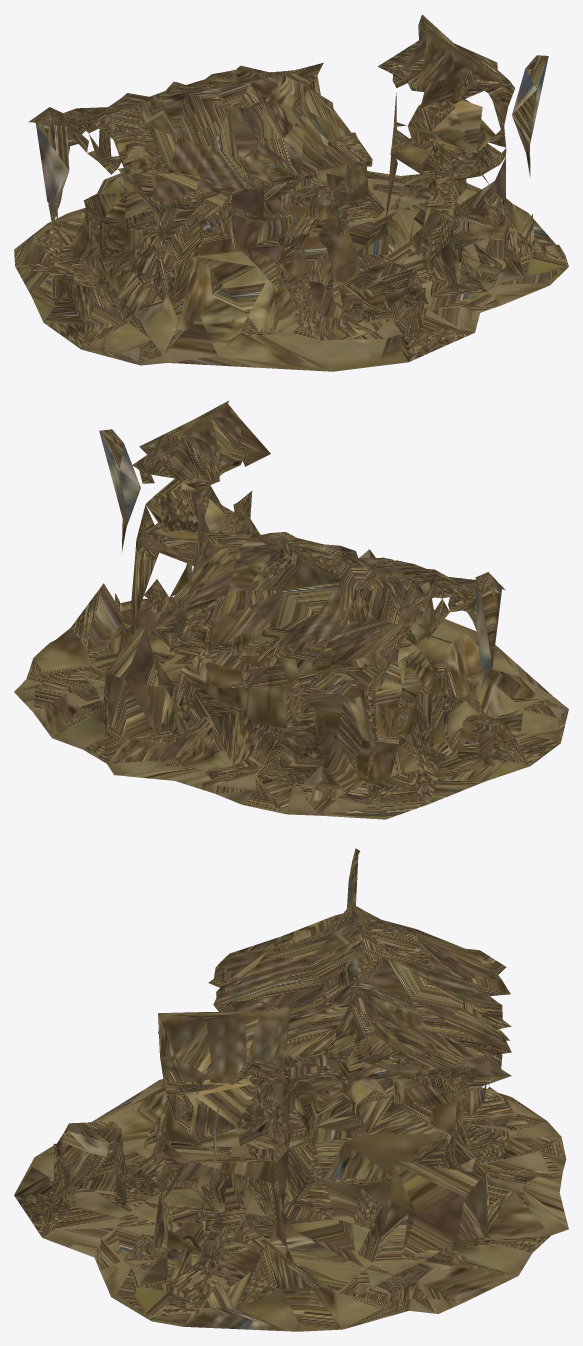
The model's file is bq_carpentry.lod2.glb.
3 renders of one model, top to bottom at view 1: azimuth 30°, elevation 25°; view 2: azimuth 150°, elevation 25°; view 3: azimuth 270°, elevation 25°, orthographic. The views are drawn at different scales.
Bounding box in the file's own units: 1.88 × 0.8679 × 1.64.
Materials: 1 (1 with a texture image).
